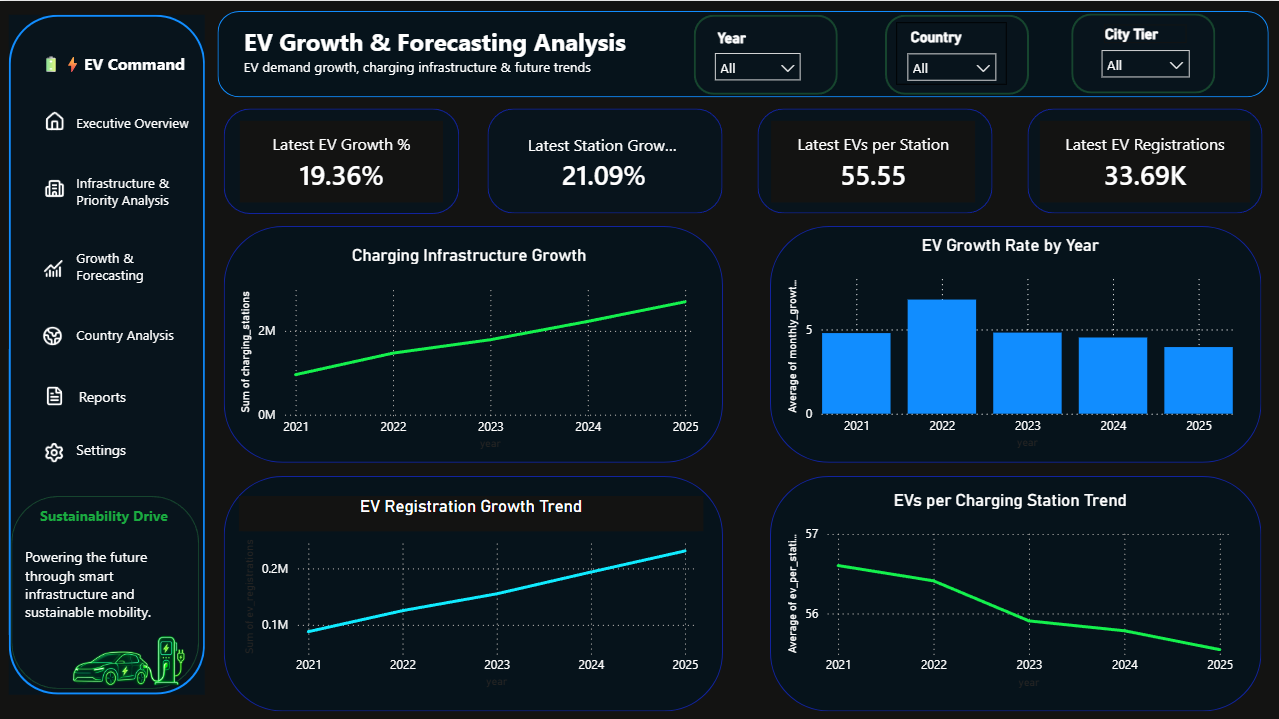

The page's visual inventory and layout, read from the dashboard file:
{"tool":"powerbi","page":{"name":"3.Growth & Forecasting","canvas":[1280,720],"ordinal":2},"visuals":[{"type":"shape","box":[217.5,10.3,1051.2,86.2],"z":0},{"type":"textbox","box":[239.3,19.6,409.8,88.3],"z":1000},{"type":"shape","box":[8.6,13.5,196.3,679.8],"z":2000},{"type":"shape","box":[223.9,475,499.2,235.5],"z":3000},{"type":"lineChart","title":"EV Registration Growth Trend","fields":{"Category":["ev_charging_analysis ev_data.year"],"Y":["Sum(ev_charging_analysis ev_data.ev_registrations)"]},"box":[239.3,495.4,464.5,196.9],"z":4000},{"type":"shape","box":[223.9,225.2,499.2,236.8],"z":5000},{"type":"lineChart","title":"Charging Infrastructure Growth","fields":{"Category":["ev_charging_analysis ev_data.year"],"Y":["Sum(ev_charging_analysis ev_data.charging_stations)"]},"box":[235.5,243.2,468.4,209.7],"z":6000},{"type":"shape","box":[769.4,225.2,491.5,236.8],"z":7000},{"type":"shape","box":[769.4,474.8,491.5,235.5],"z":8000},{"type":"lineChart","title":"EVs per Charging Station Trend","fields":{"Y":["Avg(ev_charging_analysis ev_data.ev_per_station)"],"Category":["ev_charging_analysis ev_data.year"]},"box":[782.3,488.9,455.5,203.3],"z":9000},{"type":"clusteredColumnChart","title":"EV Growth Rate by Year","fields":{"Category":["ev_charging_analysis ev_data.year"],"Y":["Avg(ev_charging_analysis ev_data.monthly_growth_pct)"]},"box":[782.3,234.2,455.5,218.7],"z":10000},{"type":"shape","box":[693.3,13.5,144,80],"z":11000},{"type":"shape","box":[885.2,14.2,144,80],"z":12000},{"type":"shape","box":[1071.8,12.9,144.1,80],"z":13000},{"type":"slicer","fields":{"Values":["ev_charging_analysis ev_data.year"]},"box":[704.3,22.1,107.5,63.8],"z":14000},{"type":"slicer","fields":{"Values":["ev_charging_analysis ev_data.country"]},"box":[896.8,21.9,110.4,62.6],"z":15000},{"type":"slicer","fields":{"Values":["ev_charging_analysis ev_data.city_tier"]},"box":[1091.1,19.3,108,66],"z":16000},{"type":"textbox","box":[25.8,46.6,174.2,47.9],"z":17000},{"type":"textbox","box":[71.2,108,122.7,44.2],"z":18000},{"type":"textbox","box":[71.2,168.1,122.7,56.4],"z":19000},{"type":"textbox","box":[71.2,242.9,98.2,49.1],"z":20000},{"type":"textbox","box":[71.2,320.2,109.2,39.3],"z":21000},{"type":"image","box":[39.3,110.4,31.9,20.9],"z":22000},{"type":"image","box":[44.2,177.9,21,20],"z":23000},{"type":"image","box":[42.9,257.7,21,20],"z":24000},{"type":"image","box":[42.9,325.2,20.7,20],"z":25000},{"type":"textbox","box":[73.6,381.6,72.4,46.6],"z":26000},{"type":"image","box":[44.2,385.3,21,20],"z":27000},{"type":"textbox","box":[71.2,434.4,90.8,36.8],"z":28000},{"type":"image","box":[44.2,441.7,20.7,20.7],"z":29000},{"type":"shape","box":[11.6,495.4,187.9,193],"z":30000},{"type":"textbox","box":[35.6,500.6,147.2,40.5],"z":31000},{"type":"textbox","box":[19.6,541.1,180.4,93.3],"z":32000},{"type":"image","box":[61.4,619.6,128.9,84.4],"z":33000},{"type":"shape","box":[223.9,108.1,235.5,105.5],"z":34000},{"type":"shape","box":[487.7,108.1,235,105],"z":35000},{"type":"shape","box":[757.9,108.1,235,105],"z":36000},{"type":"shape","box":[1028.1,108.1,235,105],"z":37000},{"type":"cardVisual","title":"Latest EV Growth %","fields":{"Data":["ev_charging_analysis ev_data.Latest EV Growth %"]},"box":[235.5,114.5,213.6,91.4],"z":38000},{"type":"cardVisual","title":"Latest EV Growth %","fields":{"Data":["ev_charging_analysis ev_data.Latest Station Growth %"]},"box":[499.2,115.8,210,90],"z":39000},{"type":"cardVisual","title":"Latest EV Growth %","fields":{"Data":["ev_charging_analysis ev_data.Latest EVs per Station"]},"box":[766.9,114.5,214.9,91.4],"z":40000},{"type":"cardVisual","title":"Latest EV Growth %","fields":{"Data":["ev_charging_analysis ev_data.Latest EV Registrations"]},"box":[1034.5,114.5,220,91.4],"z":41000}]}

Visuals, with their boxes on the page's 1280x720 design canvas (x1, y1, x2, y2). These are canvas units, not pixel positions in the 1279x719 screenshot, which may show the page scaled, cropped or inside an application window:
shape: 218:10:1269:96
textbox: 239:20:649:108
shape: 9:14:205:693
shape: 224:475:723:710
"EV Registration Growth Trend" lineChart: 239:495:704:692
shape: 224:225:723:462
"Charging Infrastructure Growth" lineChart: 236:243:704:453
shape: 769:225:1261:462
shape: 769:475:1261:710
"EVs per Charging Station Trend" lineChart: 782:489:1238:692
"EV Growth Rate by Year" clusteredColumnChart: 782:234:1238:453
shape: 693:14:837:94
shape: 885:14:1029:94
shape: 1072:13:1216:93
slicer - ev_charging_analysis ev_data.year: 704:22:812:86
slicer - ev_charging_analysis ev_data.country: 897:22:1007:84
slicer - ev_charging_analysis ev_data.city_tier: 1091:19:1199:85
textbox: 26:47:200:94
textbox: 71:108:194:152
textbox: 71:168:194:224
textbox: 71:243:169:292
textbox: 71:320:180:360
image: 39:110:71:131
image: 44:178:65:198
image: 43:258:64:278
image: 43:325:64:345
textbox: 74:382:146:428
image: 44:385:65:405
textbox: 71:434:162:471
image: 44:442:65:462
shape: 12:495:200:688
textbox: 36:501:183:541
textbox: 20:541:200:634
image: 61:620:190:704
shape: 224:108:459:214
shape: 488:108:723:213
shape: 758:108:993:213
shape: 1028:108:1263:213
"Latest EV Growth %" cardVisual: 236:114:449:206
"Latest EV Growth %" cardVisual: 499:116:709:206
"Latest EV Growth %" cardVisual: 767:114:982:206
"Latest EV Growth %" cardVisual: 1034:114:1254:206
